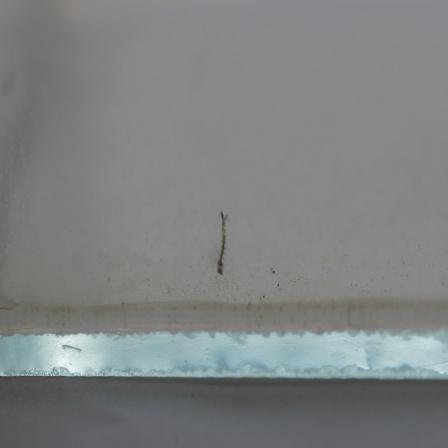Jentik-Nyamuk: (211, 206, 233, 280)
